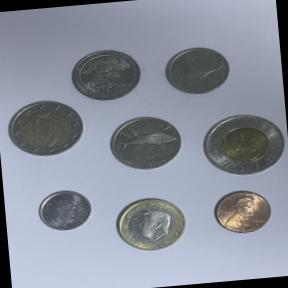1 Euro-B: (108, 189, 194, 256)
2 Euro-B: (4, 96, 90, 164)
Canada-10cent-B: (33, 184, 96, 235)
Canada-2Dollar-B: (195, 104, 288, 185)
Croatia-2Kune-B: (101, 107, 189, 180)
US-1cent-B: (207, 183, 277, 238)
US-25cent-B: (68, 46, 147, 106)
